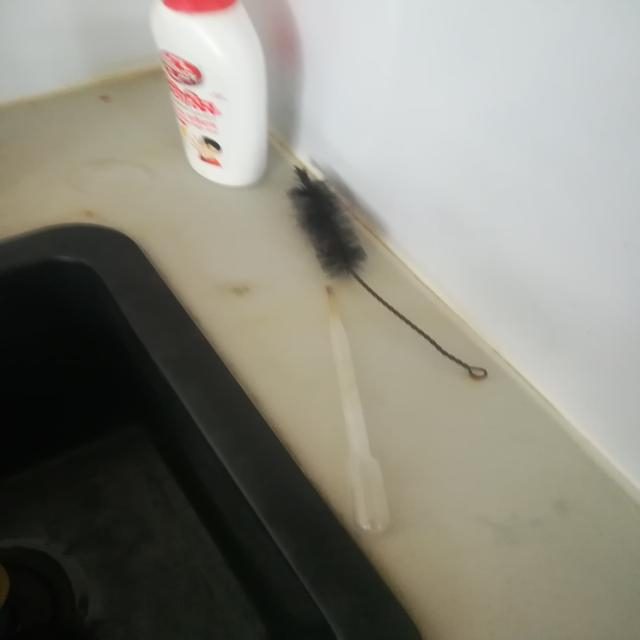Pipette: (297, 255, 454, 581)
